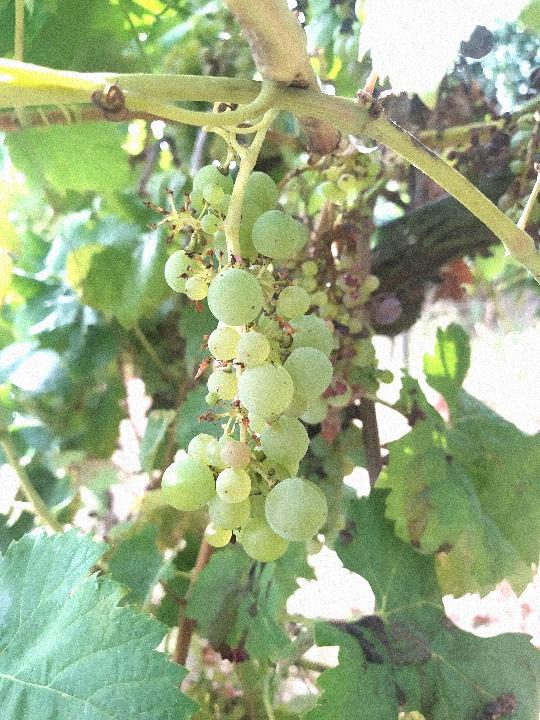grape: (159, 159, 338, 565)
